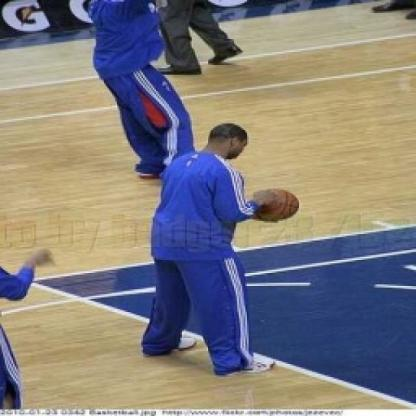basketball: (243, 184, 304, 226)
